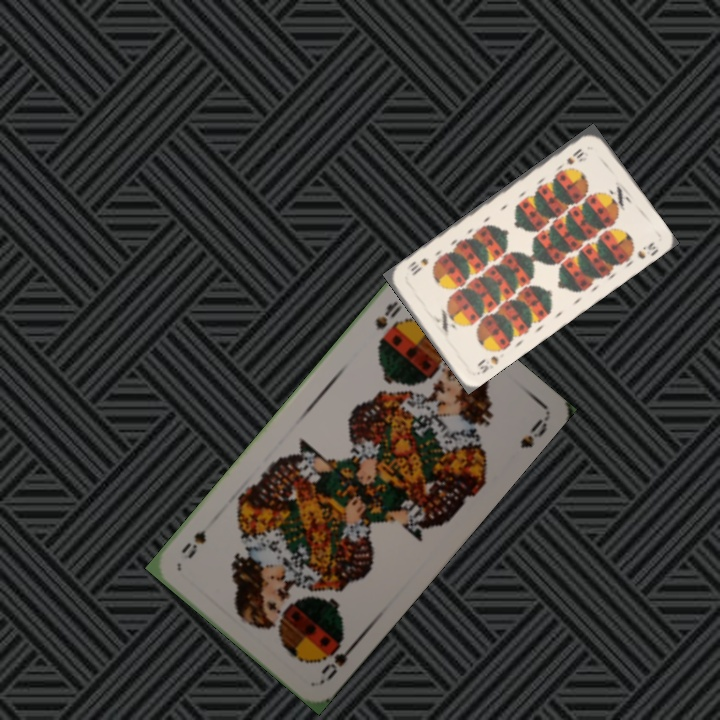S10: (473, 351, 501, 376), (562, 144, 587, 167)
SO: (317, 633, 361, 685), (371, 297, 405, 333)
